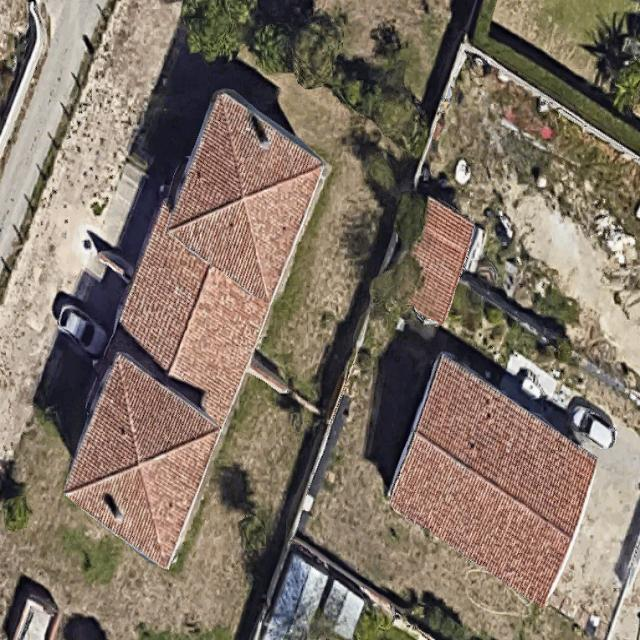maison: (34, 81, 341, 568), (355, 351, 628, 606), (389, 199, 481, 323)
